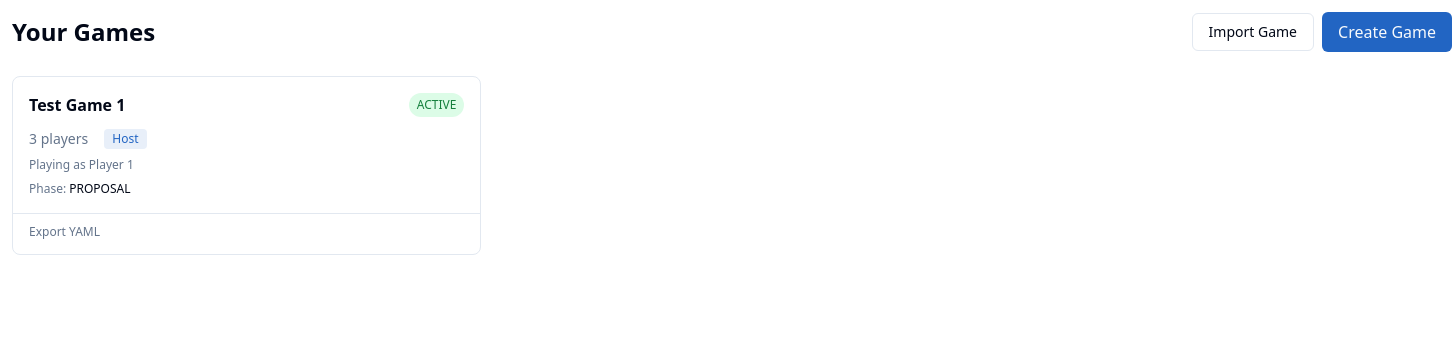
Test case: Dashboard Page › should dismiss export error when dismiss button is clicked
Expected: the heading "Test Game 1" is shown, [29, 93, 125, 117]
Click the button with aria-label "export test game 1 as yaml".
click(64, 232)  # box [29, 224, 100, 240]
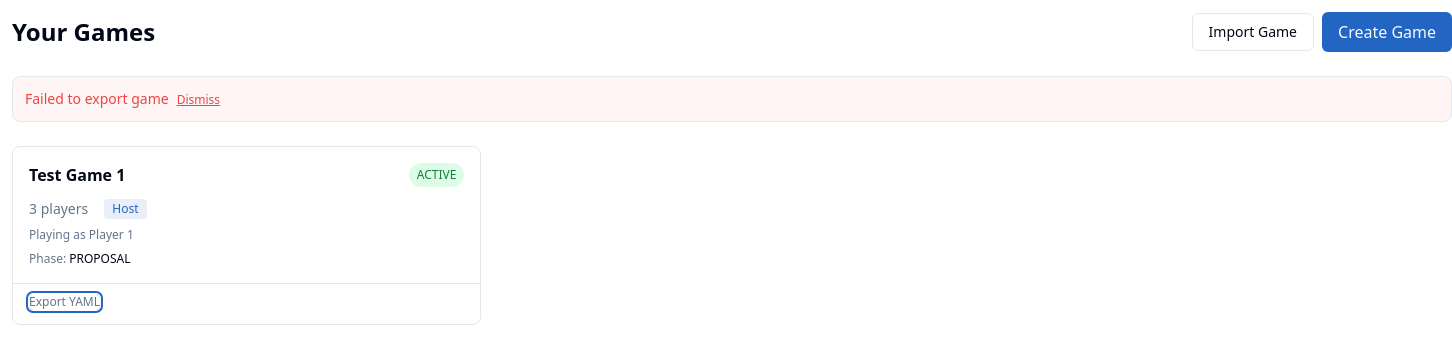
Expected: the text "Failed to export game" is shown, [25, 89, 169, 108]
Click dismiss button
Click the button with aria-label "Dismiss export error message".
click(198, 100)  # box [177, 92, 220, 108]
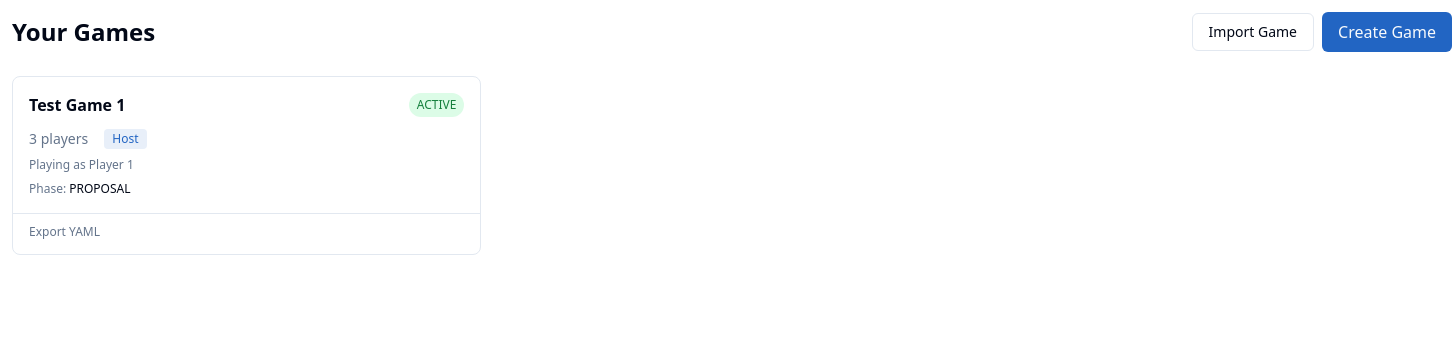
Expected: the text "Failed to export game" is gone
